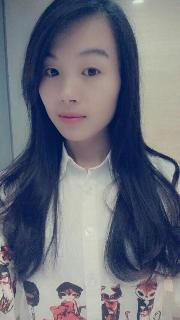long sleeve top: (0, 139, 180, 320)
